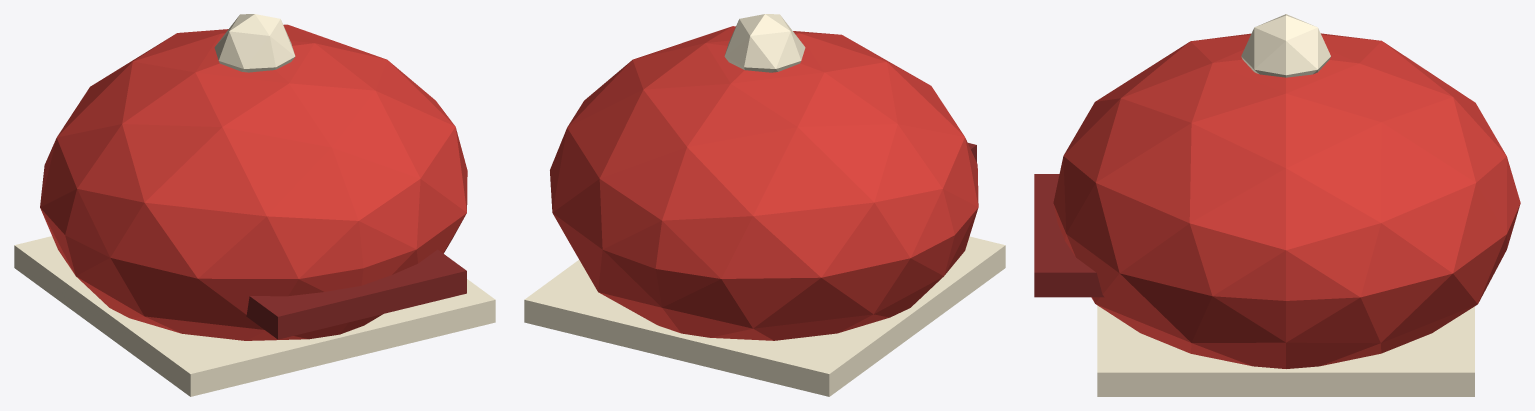
Rendered from life.glb.
3 renders of one model, left to right at view 1: azimuth 30°, elevation 25°; view 2: azimuth 150°, elevation 25°; view 3: azimuth 270°, elevation 25°, orthographic. The views are drawn at different scales.
Visible parts, largest first — view 1: Model; view 2: Model; view 3: Model.
Part boxes in pixels (box(x1,y1,x2,y2)): Model: box(14, 14, 495, 396); Model: box(524, 14, 1005, 396); Model: box(1034, 14, 1520, 396).
Size of the model in its own units: 0.5191 by 0.4127 by 0.5408.
1 material, 1 textured.
